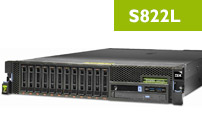ibm-server: (1, 46, 202, 109)
